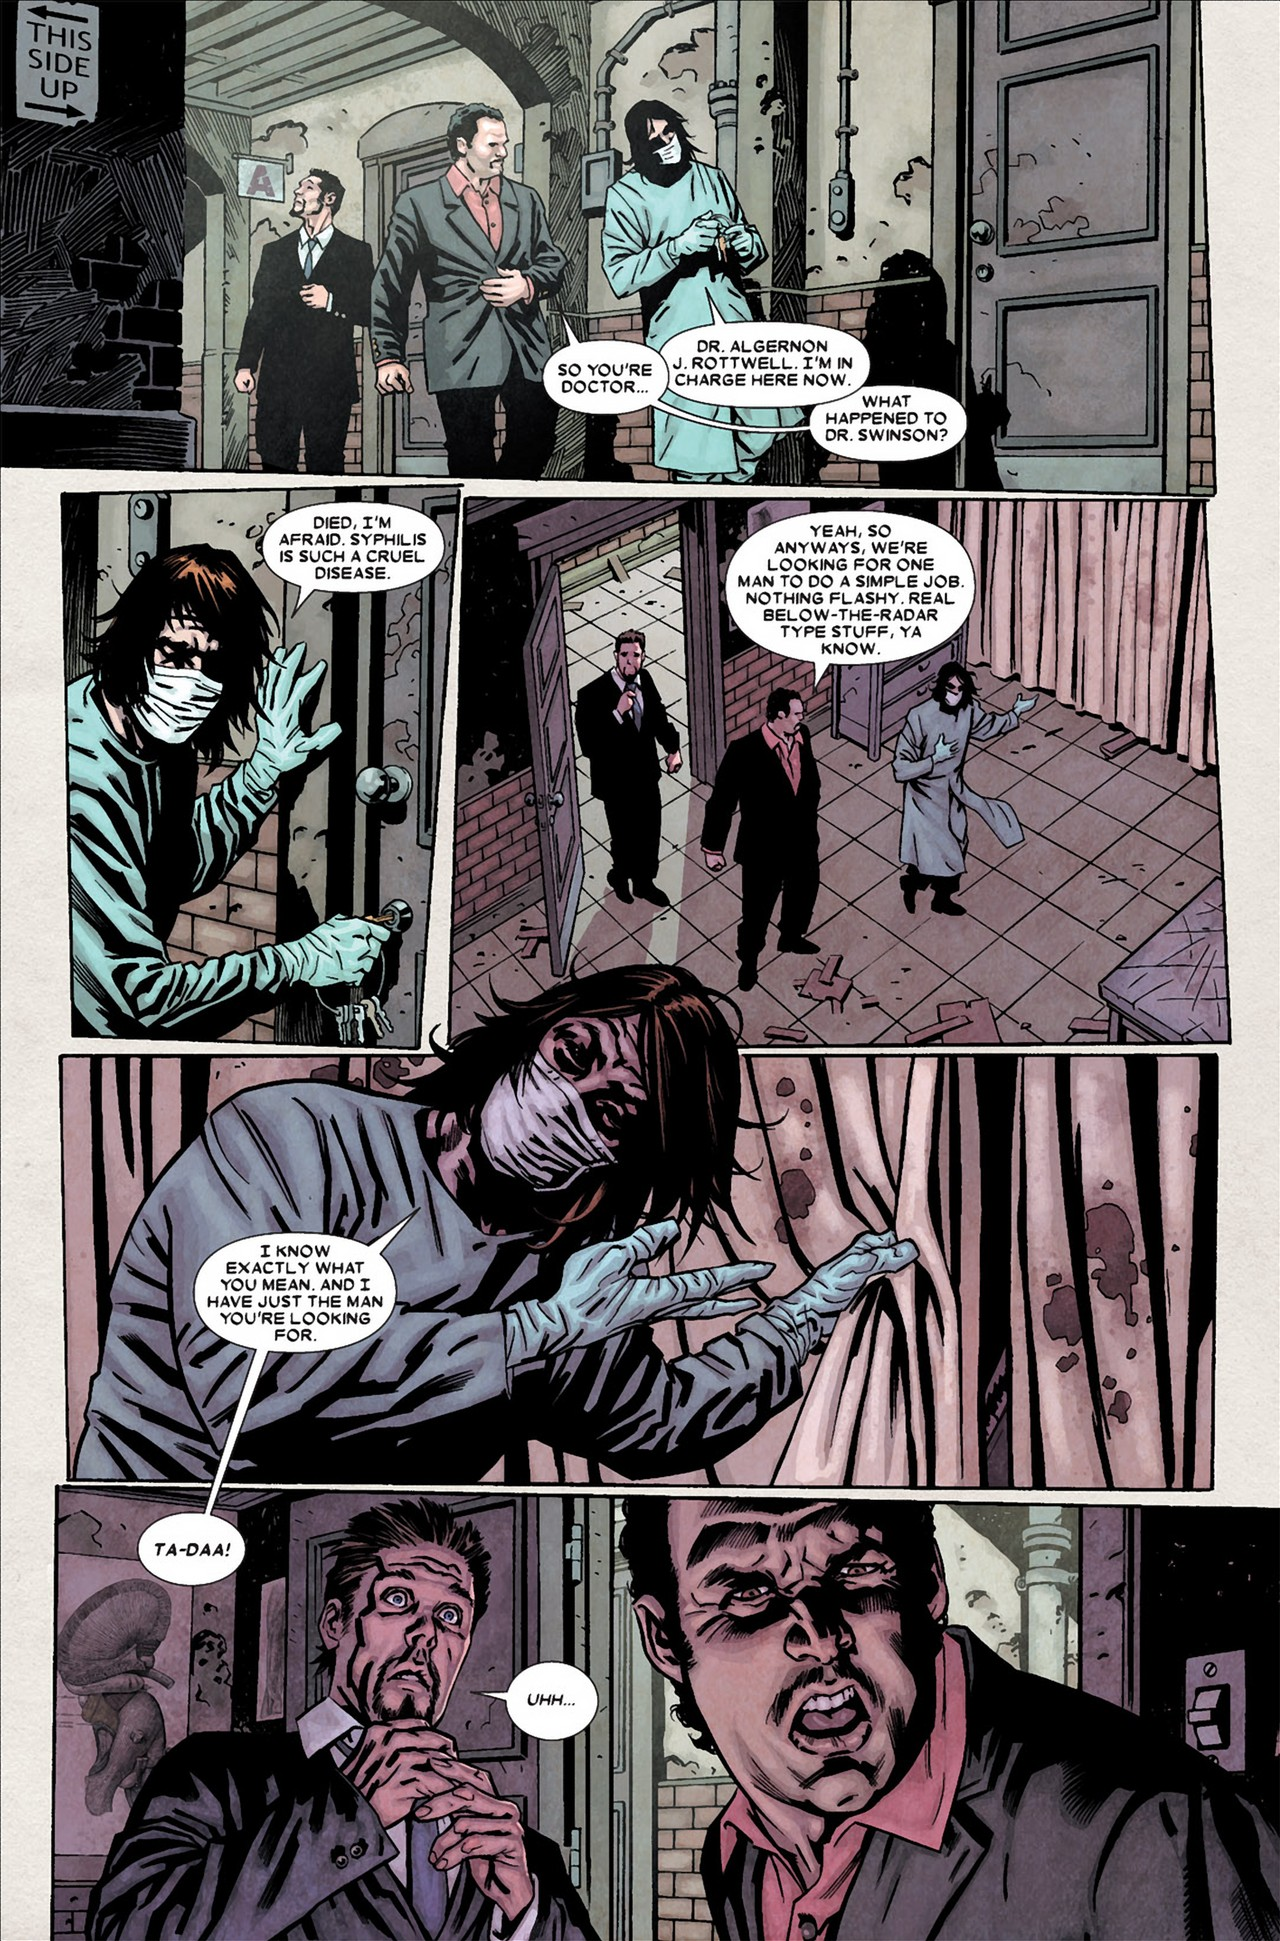Baloon: (724, 511, 989, 681), (191, 1228, 409, 1367), (259, 498, 439, 611), (661, 321, 869, 401), (814, 378, 971, 464), (547, 331, 671, 417), (134, 1508, 247, 1590), (486, 1664, 600, 1737)
Vignetta: (3, 1, 1214, 490), (56, 1481, 1279, 1938), (59, 1053, 1214, 1487), (444, 478, 1227, 1045), (61, 481, 466, 1040)
